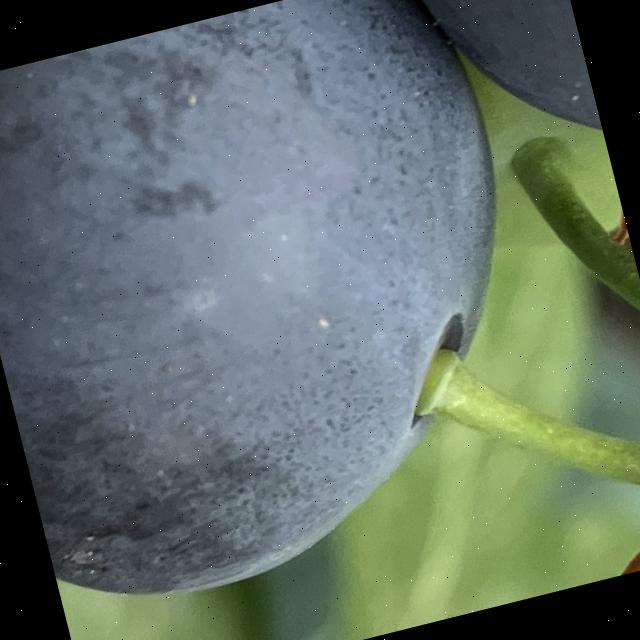Blueberries: (0, 0, 583, 626)
